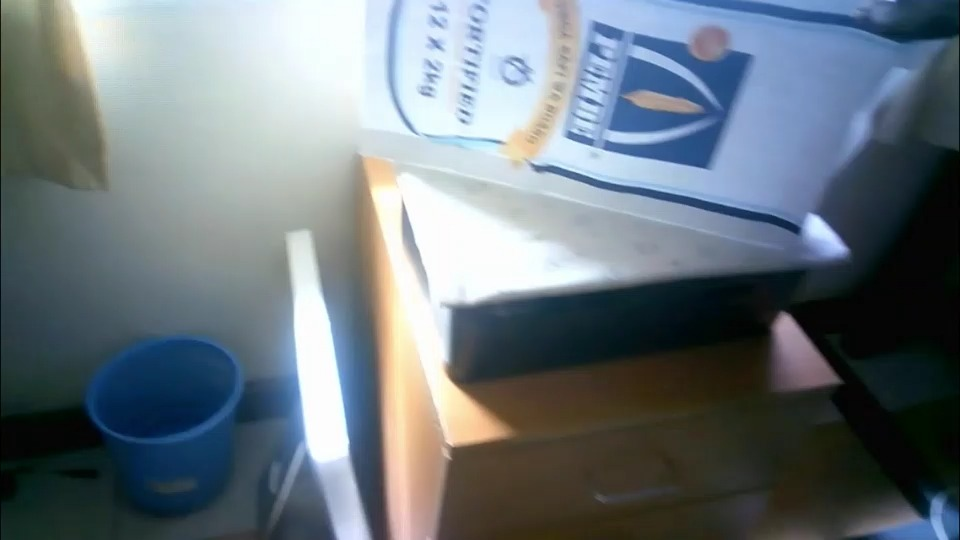wheat_flour_blue_label: (356, 3, 953, 257)
